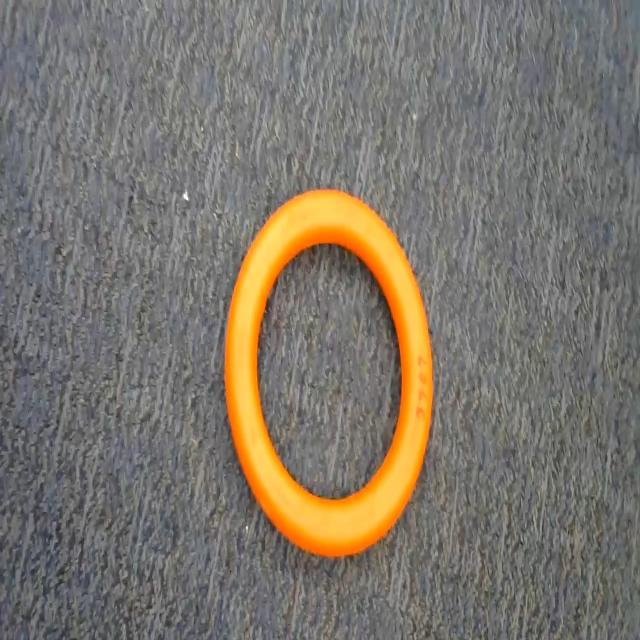note: (207, 176, 468, 573)
